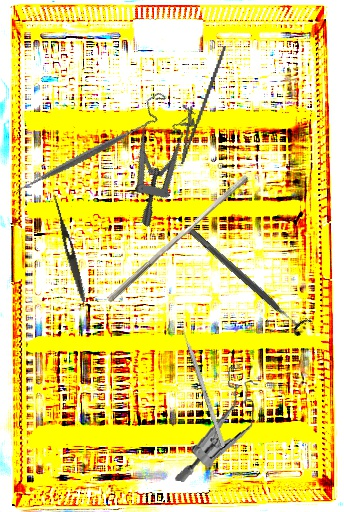Dressing Forceps: (49, 193, 89, 304)
Fixation Ring: (181, 219, 314, 340)
Needle Holder: (171, 40, 227, 168)
Pusher: (106, 169, 250, 309), (176, 315, 226, 448)
Spatula Surgical: (8, 81, 158, 232)
Speculum: (88, 85, 218, 229), (172, 358, 263, 489)
